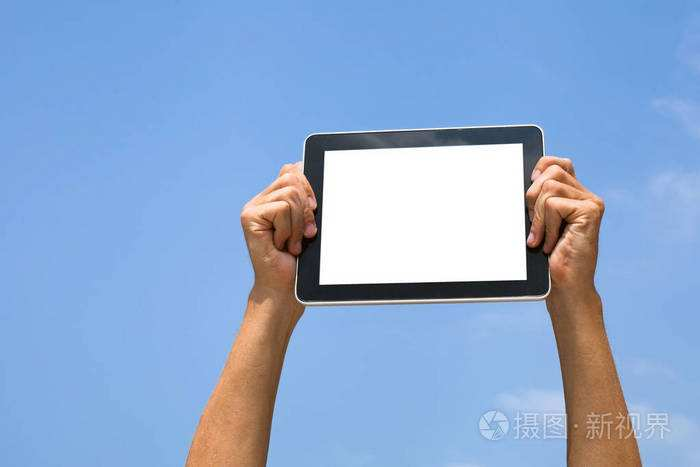pad: (232, 120, 609, 325)
